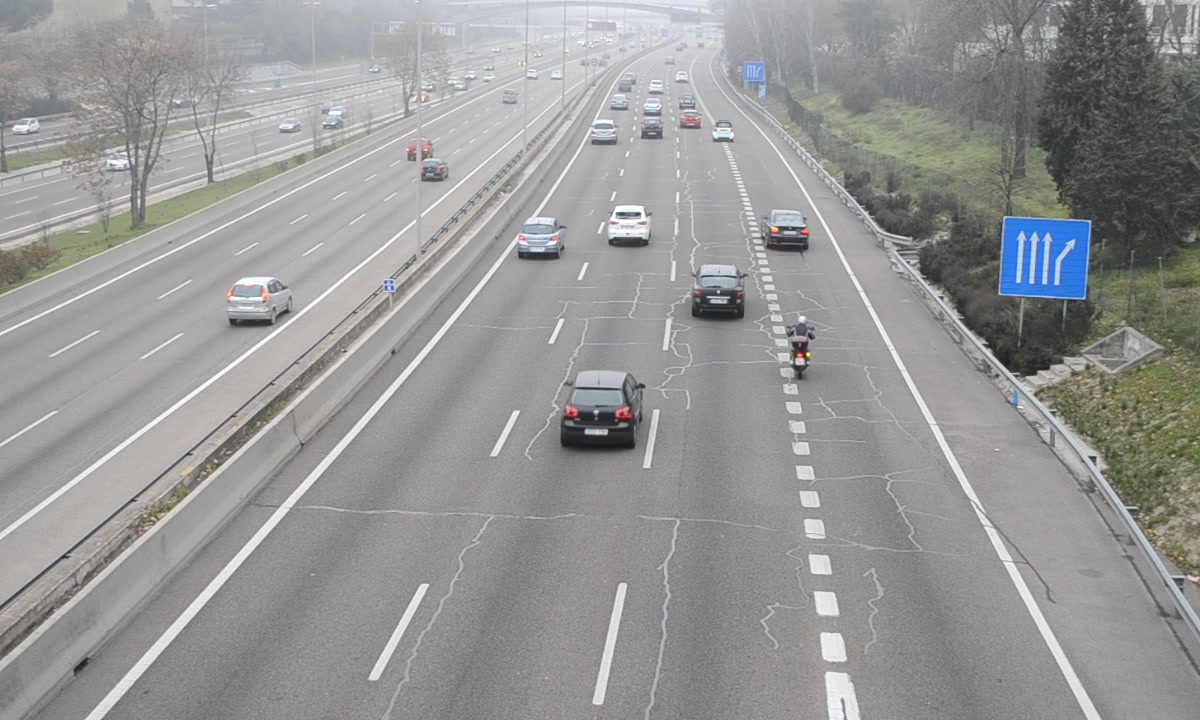car: (563, 370, 641, 448), (691, 265, 745, 317), (606, 204, 654, 244), (766, 209, 811, 251), (517, 217, 563, 258), (590, 120, 620, 147), (640, 116, 665, 141), (714, 118, 735, 143)
motorcycle: (785, 314, 818, 382)
